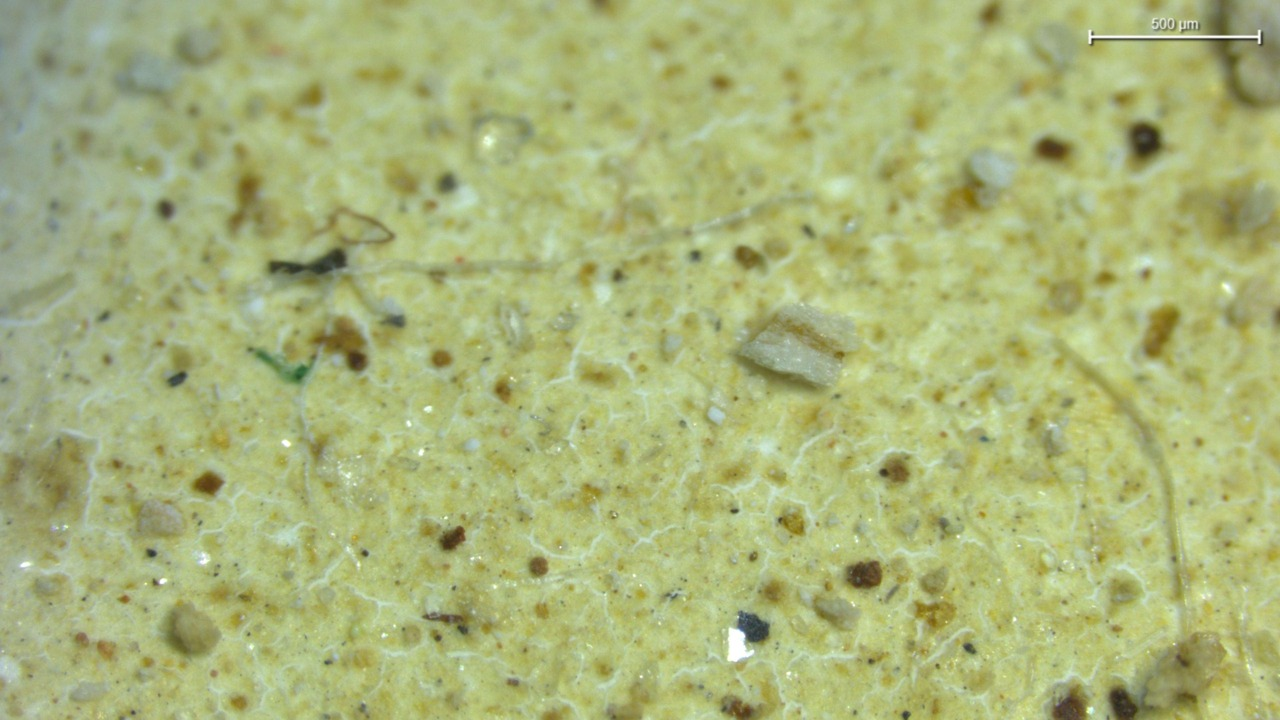microplastic_fragment: (741, 301, 861, 388), (172, 602, 221, 659), (971, 151, 1017, 193)
